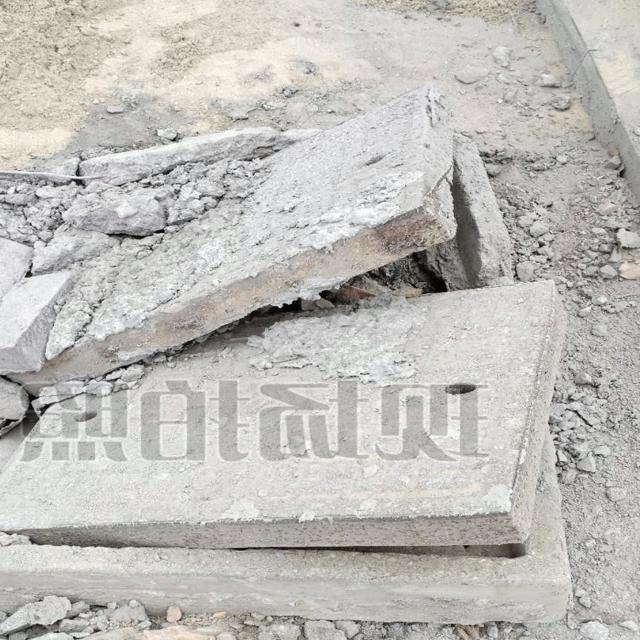uncovered: (0, 90, 577, 620)
